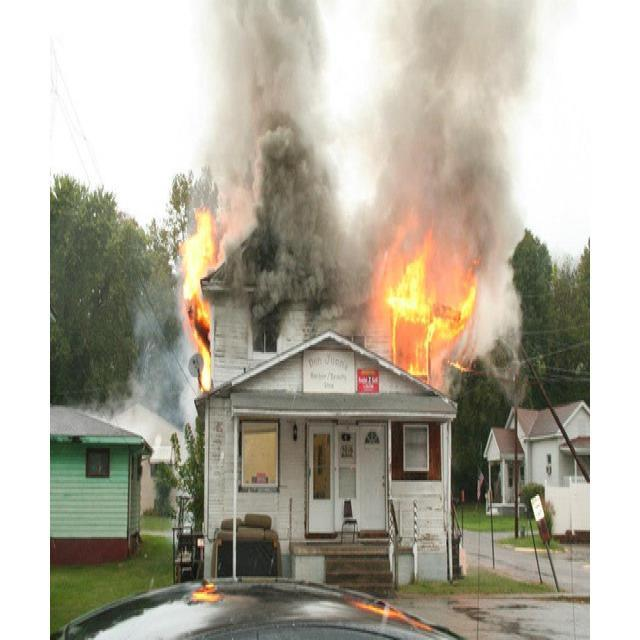Fire: (178, 204, 237, 390), (386, 259, 440, 391), (426, 260, 468, 348)
Smoke: (208, 51, 322, 158)
